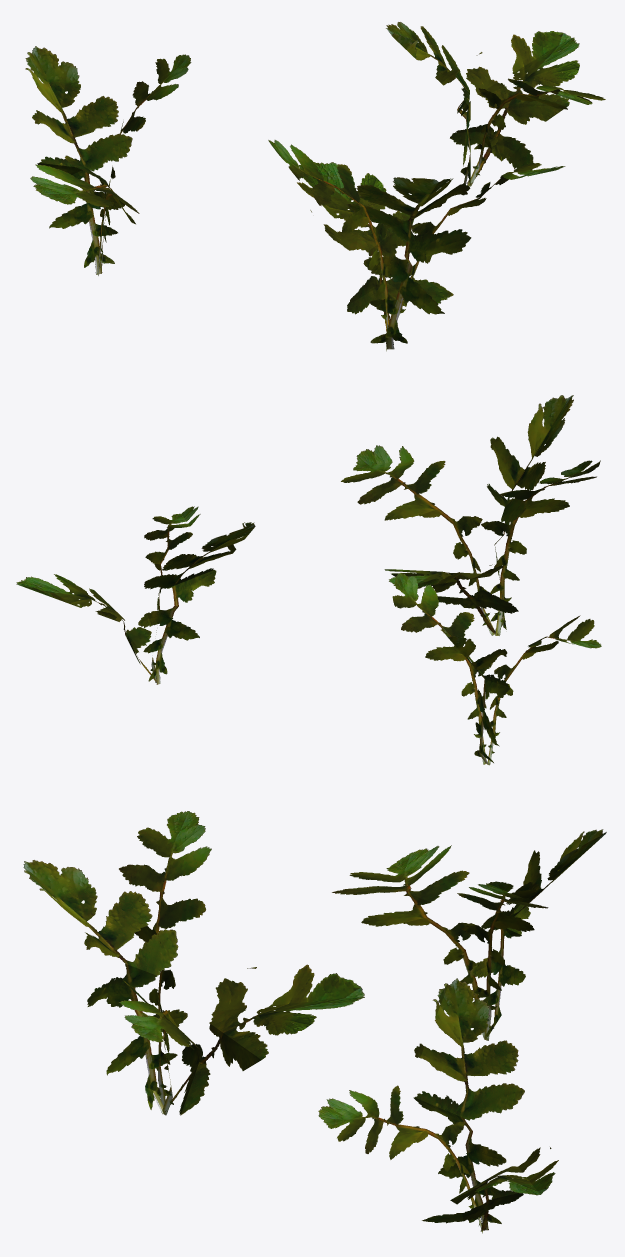
Rendered from Lamium_LOD1.fbx.
3 renders of one model, top to bottom at view 1: azimuth 30°, elevation 25°; view 2: azimuth 150°, elevation 25°; view 3: azimuth 270°, elevation 25°, orthographic. The views are drawn at different scales.
Parts seen in each view (by area): view 1: Lamium_LOD1; view 2: Lamium_LOD1; view 3: Lamium_LOD1.
Boxes of the visible parts, x1=… form: Lamium_LOD1: x1=25, y1=22, x2=605, y2=351; Lamium_LOD1: x1=16, y1=395, x2=601, y2=765; Lamium_LOD1: x1=23, y1=811, x2=606, y2=1233.
Size of the model in its own units: 0.5027 by 0.189 by 0.3974.
